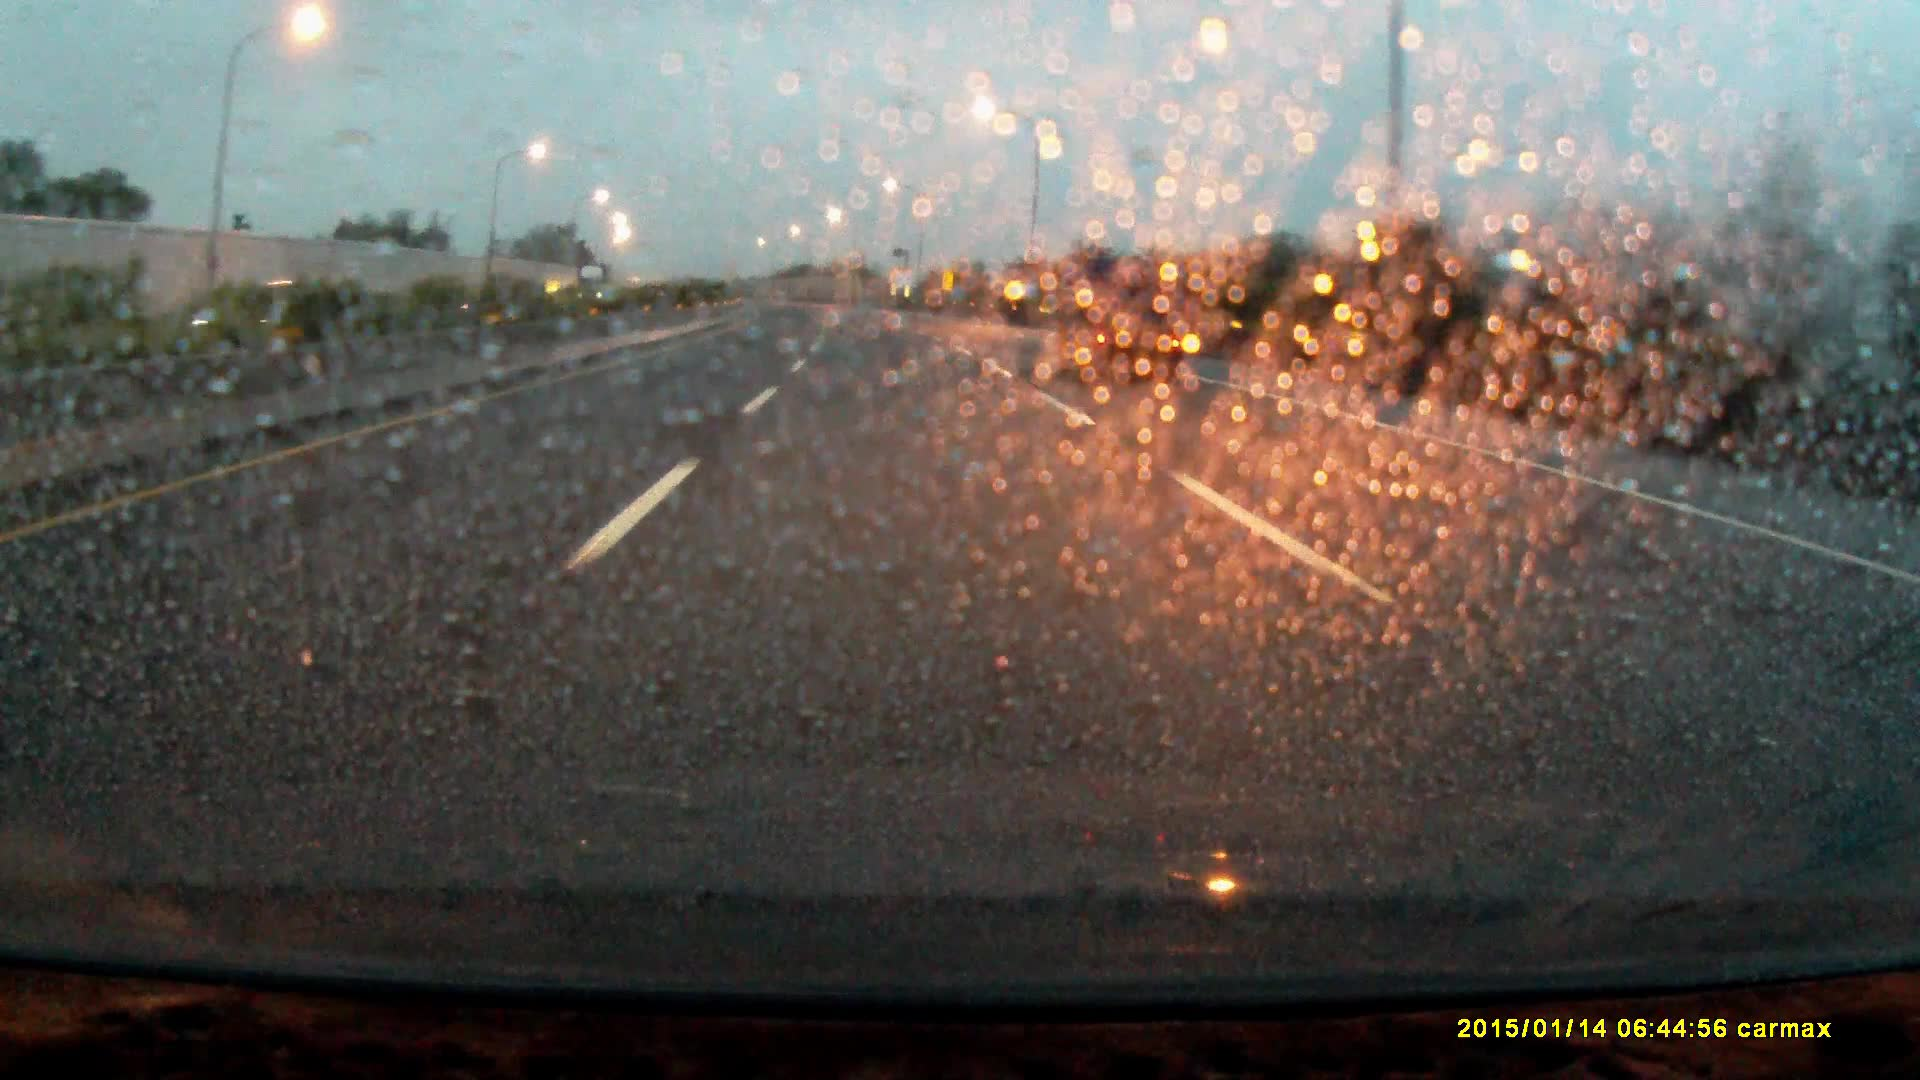vehicle: (1054, 257, 1189, 392), (578, 264, 611, 309)
